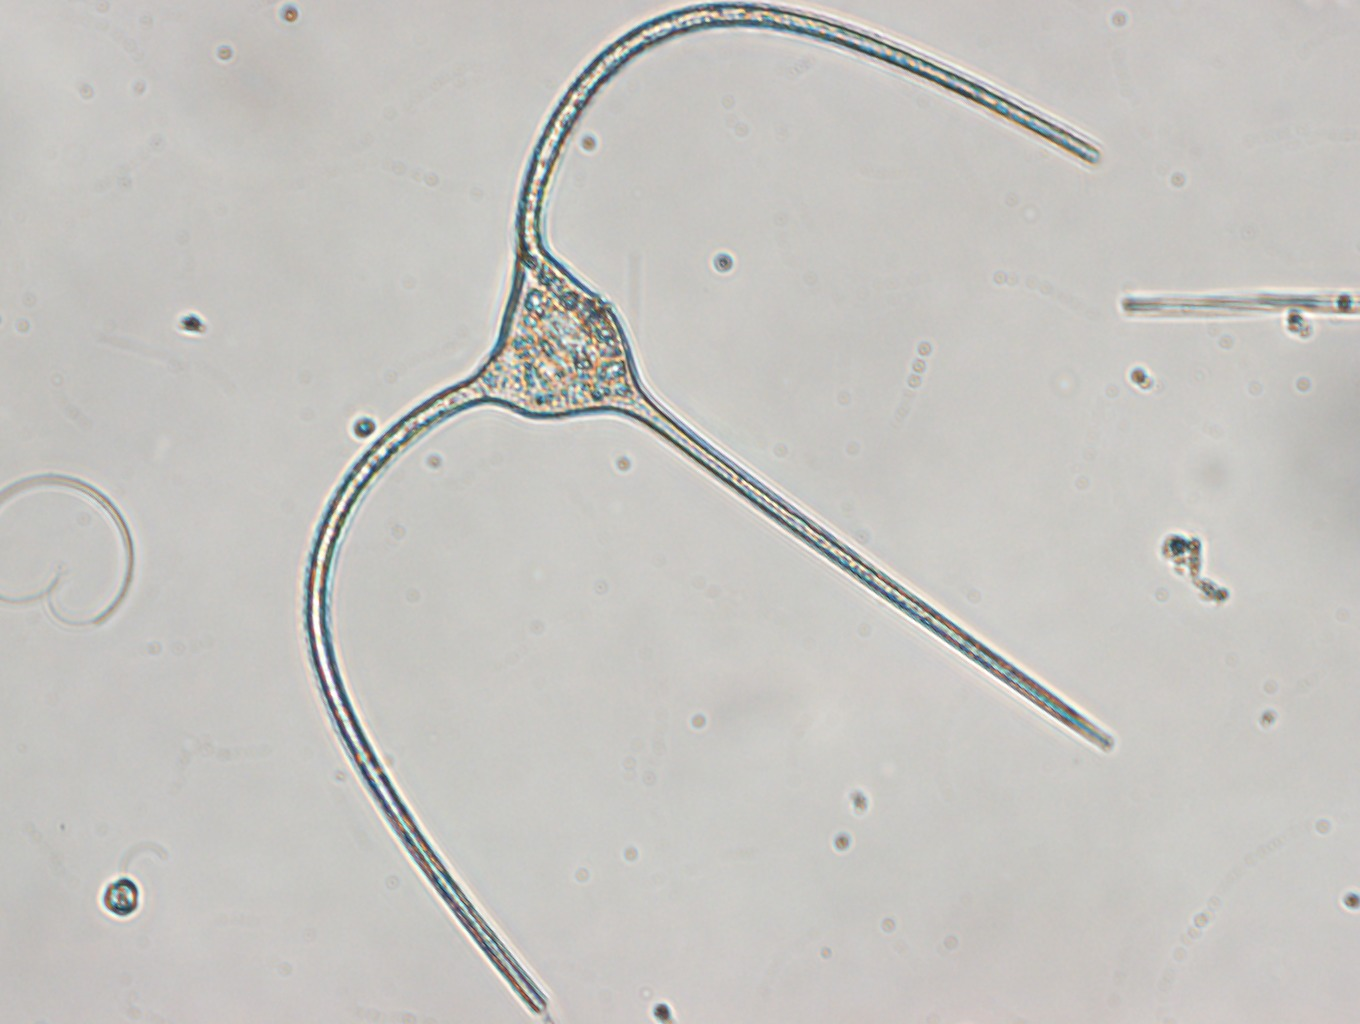ceratium trichoceros: (302, 1, 1116, 1014)
